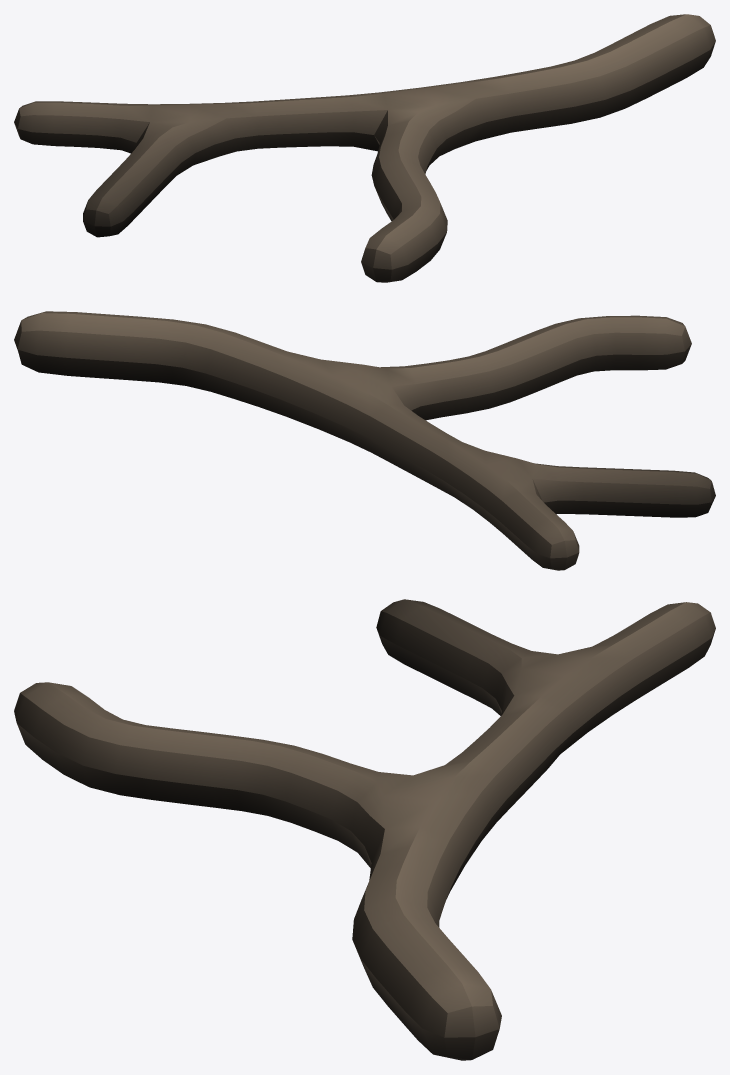
The model's file is branch1.fbx.
The picture shows the model from 3 angles, top to bottom: view 1: azimuth 30°, elevation 25°; view 2: azimuth 150°, elevation 25°; view 3: azimuth 270°, elevation 25°; orthographic projection. The views are drawn at different scales.
Visible parts, largest first — view 1: branch8; view 2: branch8; view 3: branch8.
Part boxes in pixels (box(x1,y1,x2,y2)): branch8: box(14, 14, 715, 282); branch8: box(14, 311, 715, 570); branch8: box(14, 599, 715, 1060).
Bounding box in the file's own units: 176 × 16.28 × 118.
